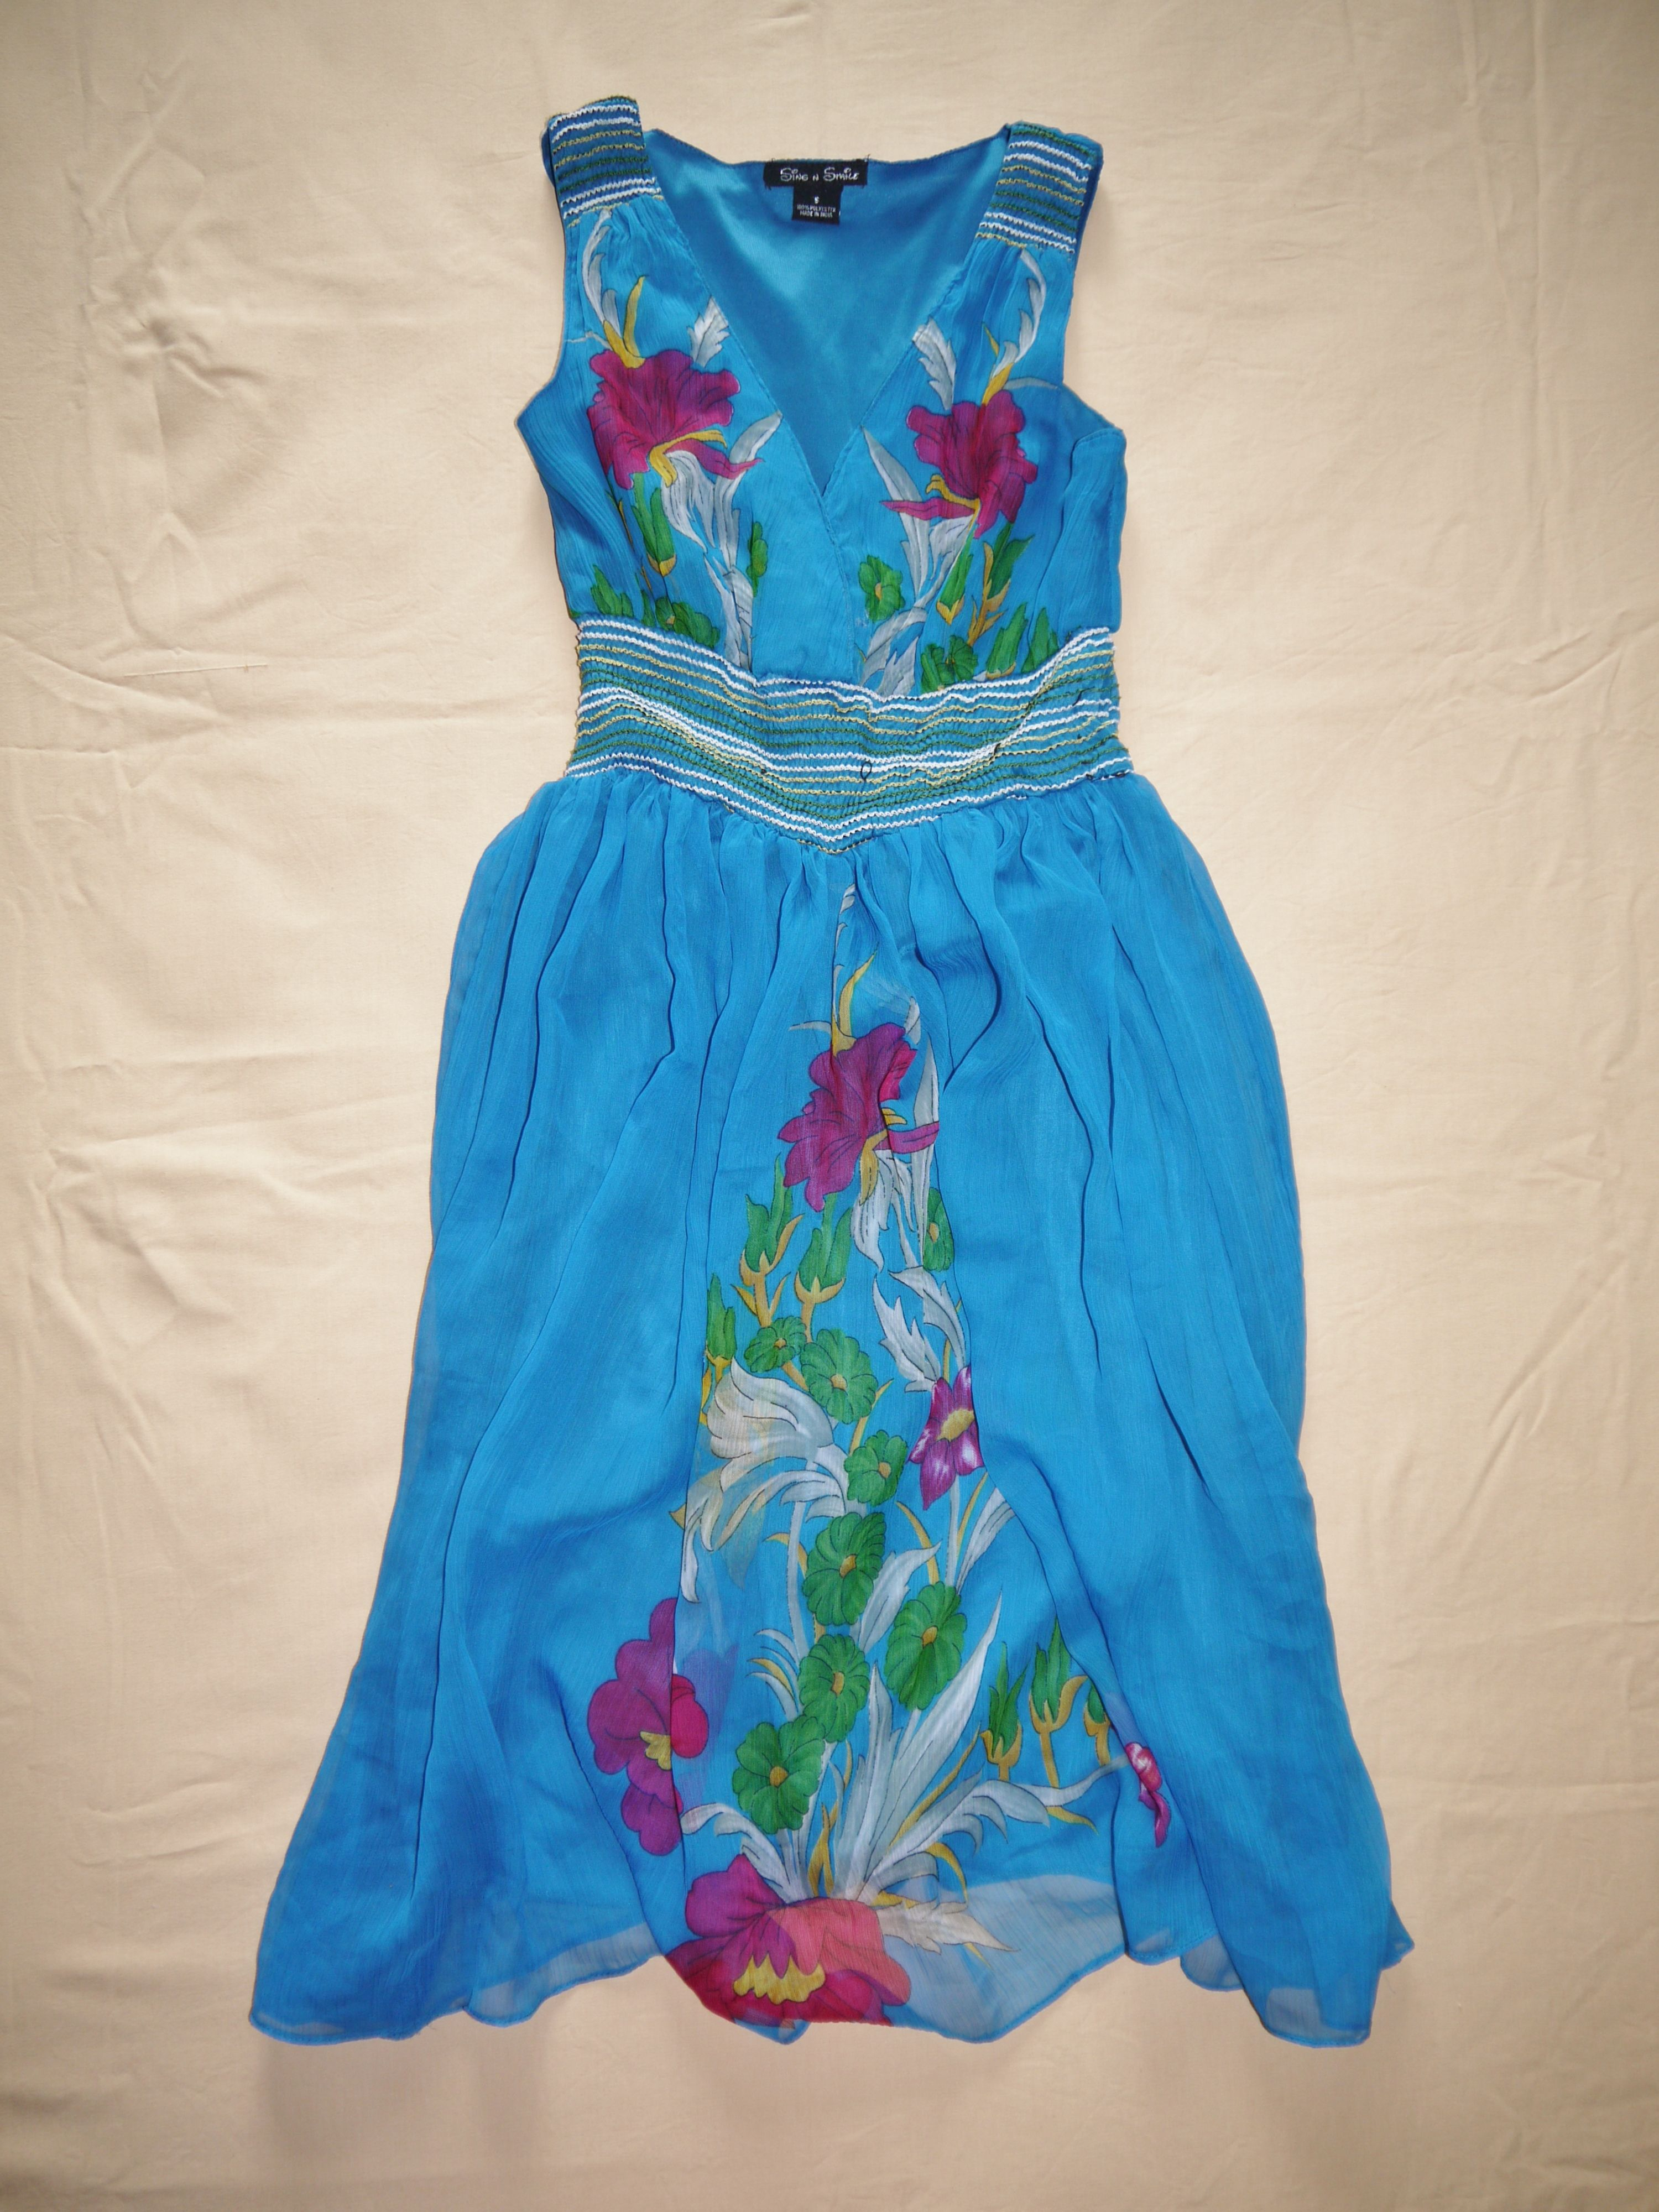clothes: (312, 96, 1420, 2043)
